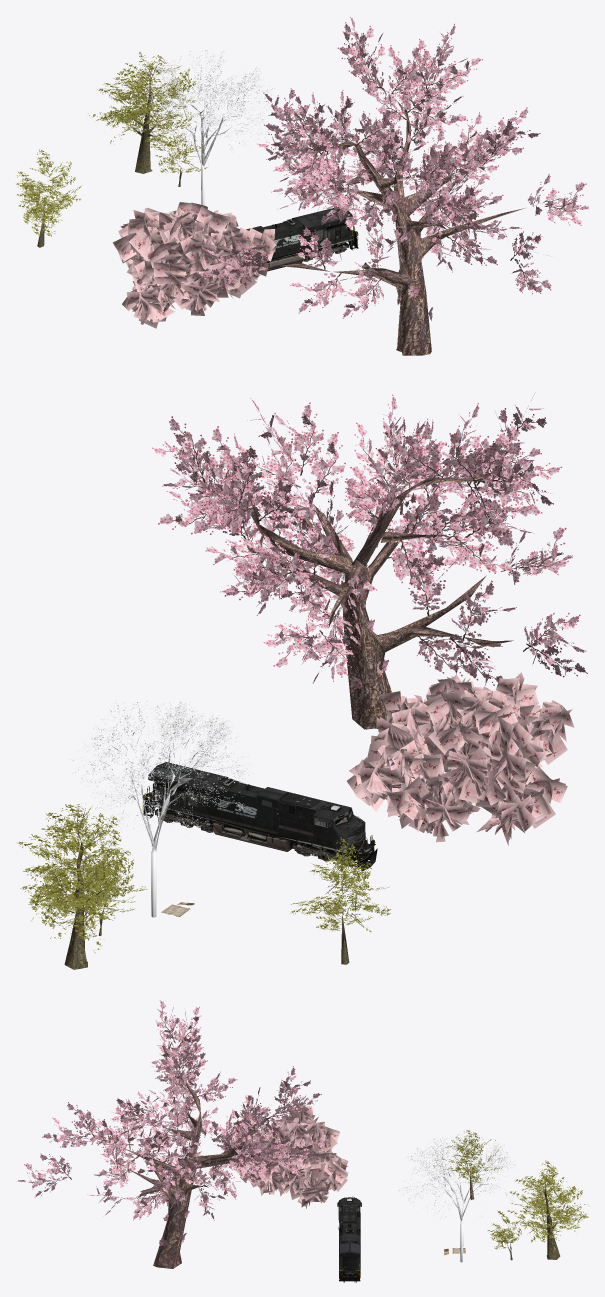
File: tree3.glb
The picture shows the model from 3 angles, top to bottom: view 1: azimuth 30°, elevation 25°; view 2: azimuth 150°, elevation 25°; view 3: azimuth 270°, elevation 25°; orthographic projection. The views are drawn at different scales.
Parts seen in each view (by area): view 1: Object002_sakura_branch_new01_1Mat_0, Sakura_Sakura_Mat_0, leafplanes_leaf1_0, Object001_mossybark02_0Mat_0, Object_10, Object_131, Object_32, treelarge_bark1_0, Object_26; view 2: Object002_sakura_branch_new01_1Mat_0, Sakura_Sakura_Mat_0, leafplanes_leaf1_0, Object001_mossybark02_0Mat_0, Object_10, Object_26, Object_131, Object_32, treelarge_bark1_0; view 3: Object002_sakura_branch_new01_1Mat_0, Sakura_Sakura_Mat_0, leafplanes_leaf1_0, Object001_mossybark02_0Mat_0, Object_10, Object_26, Object_131, treelarge_bark1_0, Object_32.
Part boxes in pixels (x1,y1,x2,y2): Object002_sakura_branch_new01_1Mat_0: [202, 17, 588, 320]; Sakura_Sakura_Mat_0: [112, 202, 276, 328]; leafplanes_leaf1_0: [16, 52, 207, 236]; Object001_mossybark02_0Mat_0: [280, 91, 525, 355]; Object_10: [142, 50, 275, 205]; Object_131: [246, 219, 358, 259]; Object_32: [266, 214, 358, 271]; treelarge_bark1_0: [37, 75, 186, 247]; Object_26: [288, 206, 354, 235]; Object002_sakura_branch_new01_1Mat_0: [152, 393, 587, 689]; Sakura_Sakura_Mat_0: [347, 671, 574, 845]; leafplanes_leaf1_0: [16, 803, 390, 953]; Object001_mossybark02_0Mat_0: [247, 473, 513, 729]; Object_10: [70, 697, 254, 917]; Object_26: [147, 762, 372, 863]; Object_131: [143, 778, 377, 870]; Object_32: [142, 766, 374, 868]; treelarge_bark1_0: [64, 833, 349, 969]; Object002_sakura_branch_new01_1Mat_0: [18, 1000, 325, 1246]; Sakura_Sakura_Mat_0: [229, 1105, 348, 1208]; leafplanes_leaf1_0: [441, 1130, 588, 1251]; Object001_mossybark02_0Mat_0: [120, 1059, 271, 1268]; Object_10: [399, 1133, 519, 1262]; Object_26: [337, 1196, 361, 1272]; Object_131: [339, 1201, 360, 1281]; treelarge_bark1_0: [470, 1172, 560, 1260]; Object_32: [337, 1197, 361, 1282].
Size of the model in its own units: 51.67 by 40.45 by 93.7.
18 materials, 15 textured.
